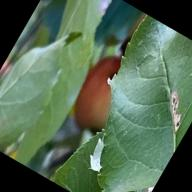Apples: (66, 49, 138, 136)
